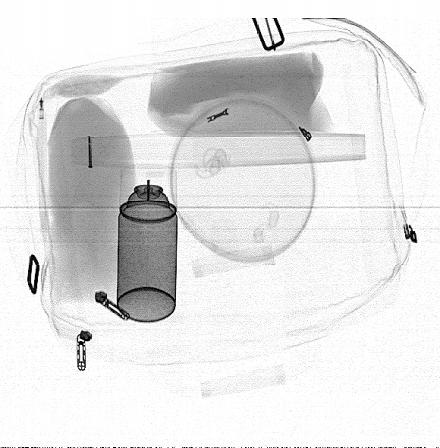Sprayer: (118, 164, 178, 322)
